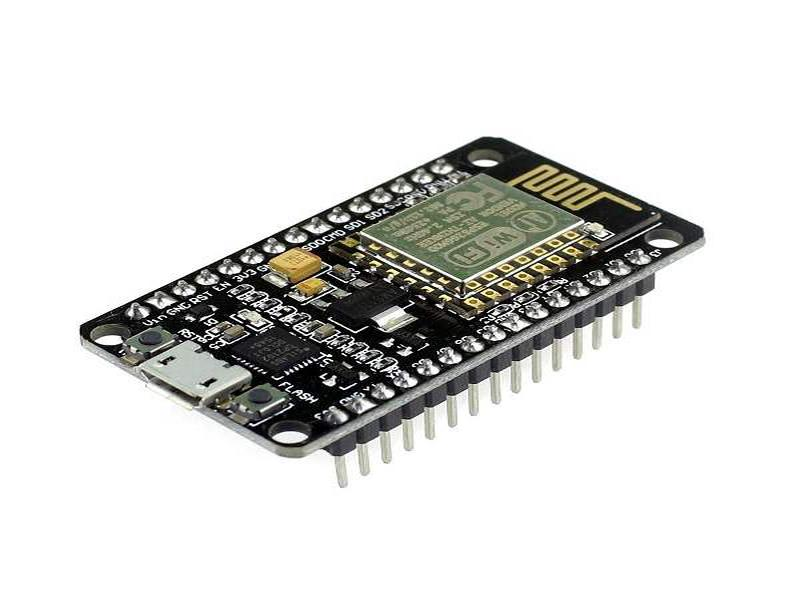ESP8266: (77, 118, 709, 495)
